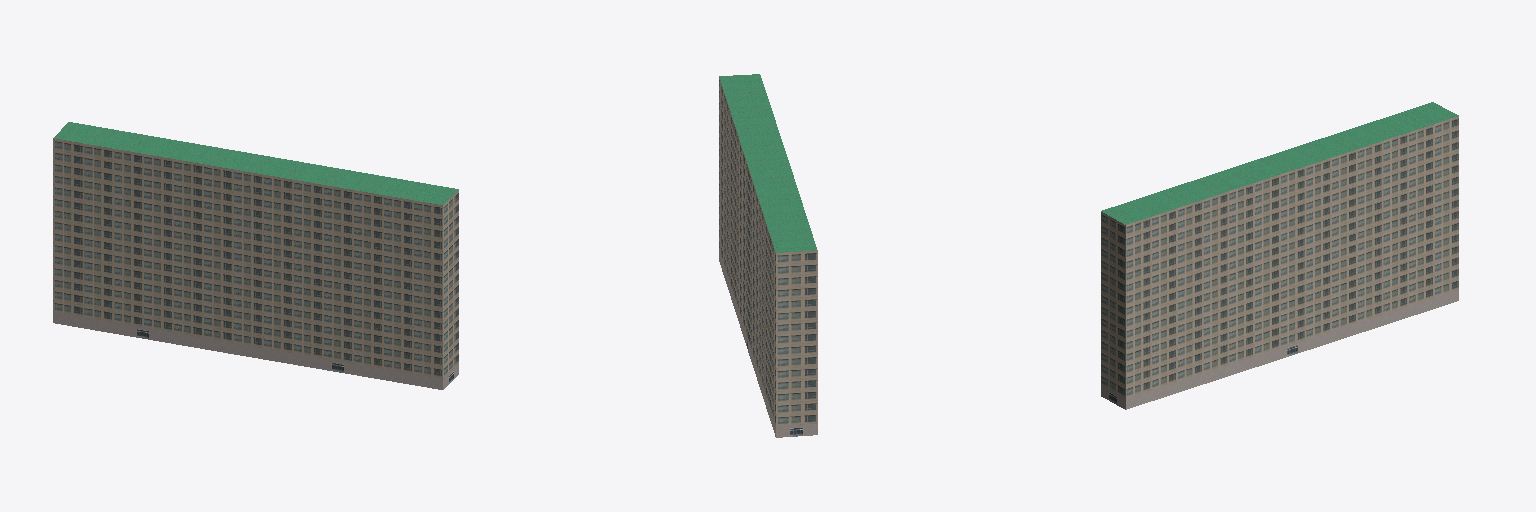
3 renders of one model, left to right at view 1: azimuth 30°, elevation 25°; view 2: azimuth 150°, elevation 25°; view 3: azimuth 270°, elevation 25°, orthographic.
Parts seen in each view (by area): view 1: BuildingMaster_[number redacted]_0, BuildingMaster_[number redacted]_1; view 2: BuildingMaster_[number redacted]_0, BuildingMaster_[number redacted]_1; view 3: BuildingMaster_[number redacted]_0, BuildingMaster_[number redacted]_1.
Boxes of the visible parts, x1=… form: BuildingMaster_[number redacted]_0: x1=53, y1=138, x2=458, y2=389; BuildingMaster_[number redacted]_1: x1=54, y1=122, x2=458, y2=204; BuildingMaster_[number redacted]_0: x1=719, y1=77, x2=817, y2=437; BuildingMaster_[number redacted]_1: x1=719, y1=74, x2=816, y2=252; BuildingMaster_[number redacted]_0: x1=1101, y1=116, x2=1458, y2=409; BuildingMaster_[number redacted]_1: x1=1101, y1=102, x2=1458, y2=224.
Bounding box in the file's own units: 79.92 × 56 × 98.52.
2 materials, 2 textured.